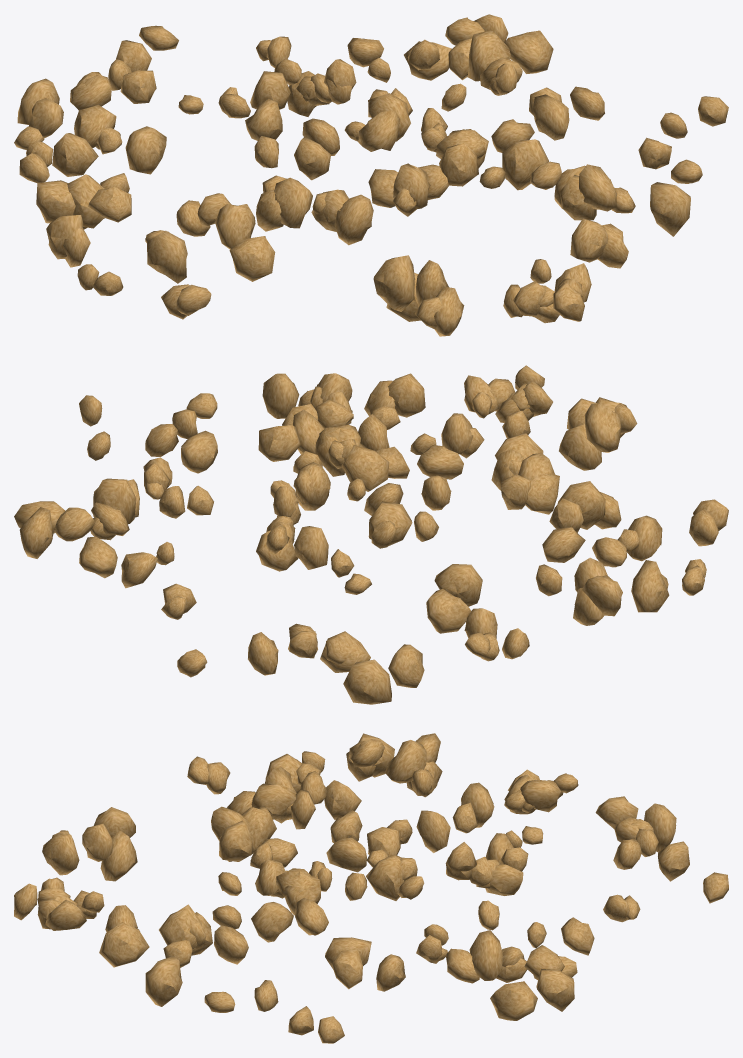
The model's file is pacoca.glb.
3 views of the same model, one above another, from view 1: azimuth 30°, elevation 25°; view 2: azimuth 150°, elevation 25°; view 3: azimuth 270°, elevation 25° (orthographic). The views are drawn at different scales.
Parts seen in each view (by area): view 1: pacoca_2, pacoca_6, pacoca_26, pacoca_36, pacoca_18, pacoca_7, pacoca_4, pacoca_30, pacoca_8, pacoca_31, pacoca_32, pacoca_33 (+28 smaller); view 2: pacoca_6, pacoca_4, pacoca_10, pacoca_9, pacoca_26, pacoca_12, pacoca_36, pacoca_19, pacoca_38, pacoca_5, pacoca_31, pacoca_8 (+28 smaller); view 3: pacoca_6, pacoca_36, pacoca_4, pacoca_22, pacoca_2, pacoca_32, pacoca_5, pacoca_23, pacoca_27, pacoca_21, pacoca_26, pacoca_38 (+27 smaller).
Part boxes in pixels (<box>): pacoca_2: <box>274,177,373,245</box>; pacoca_6: <box>449,119,561,190</box>; pacoca_26: <box>74,105,166,174</box>; pacoca_36: <box>67,174,210,236</box>; pacoca_18: <box>14,126,98,182</box>; pacoca_7: <box>215,204,275,281</box>; pacoca_4: <box>404,14,553,80</box>; pacoca_30: <box>373,255,448,311</box>; pacoca_8: <box>46,215,123,295</box>; pacoca_31: <box>70,59,156,110</box>; pacoca_32: <box>554,164,616,220</box>; pacoca_33: <box>421,122,485,186</box>; pacoca_6: <box>258,399,353,476</box>; pacoca_4: <box>14,501,117,578</box>; pacoca_10: <box>343,644,424,704</box>; pacoca_9: <box>410,413,484,479</box>; pacoca_26: <box>426,564,482,633</box>; pacoca_12: <box>500,474,583,532</box>; pacoca_36: <box>542,527,626,592</box>; pacoca_19: <box>536,564,622,625</box>; pacoca_38: <box>341,445,403,515</box>; pacoca_5: <box>143,424,217,487</box>; pacoca_31: <box>288,623,370,672</box>; pacoca_8: <box>631,559,706,612</box>; pacoca_6: <box>212,875,328,942</box>; pacoca_36: <box>324,739,426,819</box>; pacoca_4: <box>490,956,577,1020</box>; pacoca_22: <box>416,930,502,983</box>; pacoca_2: <box>211,783,295,855</box>; pacoca_32: <box>159,904,248,964</box>; pacoca_5: <box>325,937,405,991</box>; pacoca_23: <box>345,854,424,900</box>; pacoca_27: <box>42,830,137,881</box>; pacoca_21: <box>14,883,104,930</box>; pacoca_26: <box>461,780,560,827</box>; pacoca_38: <box>326,827,400,872</box>.
Size of the model in its own units: 0.9798 by 0.1441 by 1.03.
Materials: 1 (1 with a texture image).
